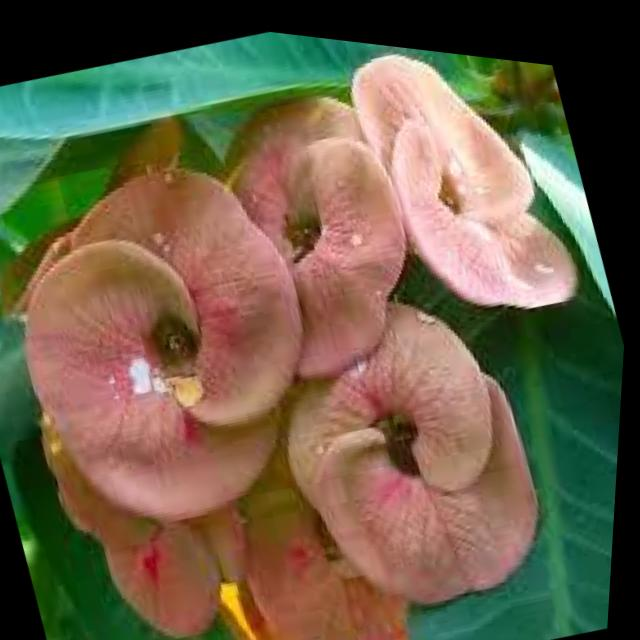Flower: (0, 114, 369, 574), (234, 240, 596, 640), (121, 47, 449, 412), (323, 31, 607, 357)
